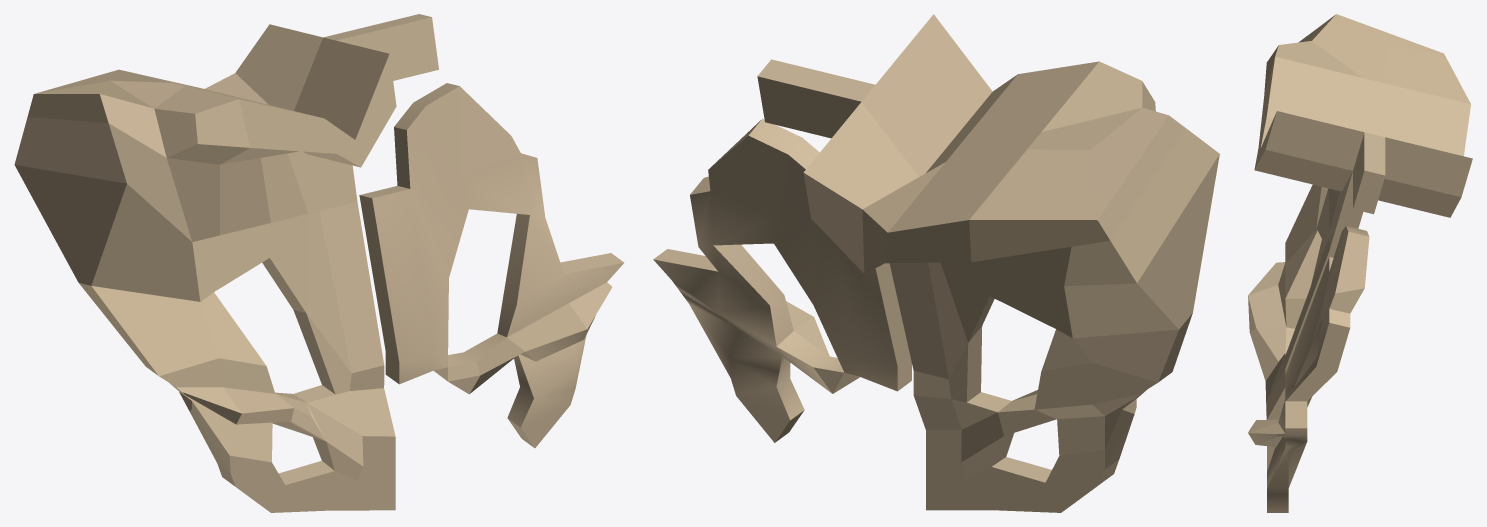
The model's file is Bassin.FBX.
3 views of the same model, side by side, from view 1: azimuth 30°, elevation 25°; view 2: azimuth 150°, elevation 25°; view 3: azimuth 270°, elevation 25° (orthographic). The views are drawn at different scales.
Parts seen in each view (by area): view 1: bassin; view 2: bassin; view 3: bassin.
Boxes of the visible parts, box(x1,y1,x2,y2) form: bassin: box(14, 14, 624, 512); bassin: box(653, 14, 1219, 512); bassin: box(1248, 14, 1472, 512).
Size of the model in its own units: 22.6 by 18.73 by 10.34.
